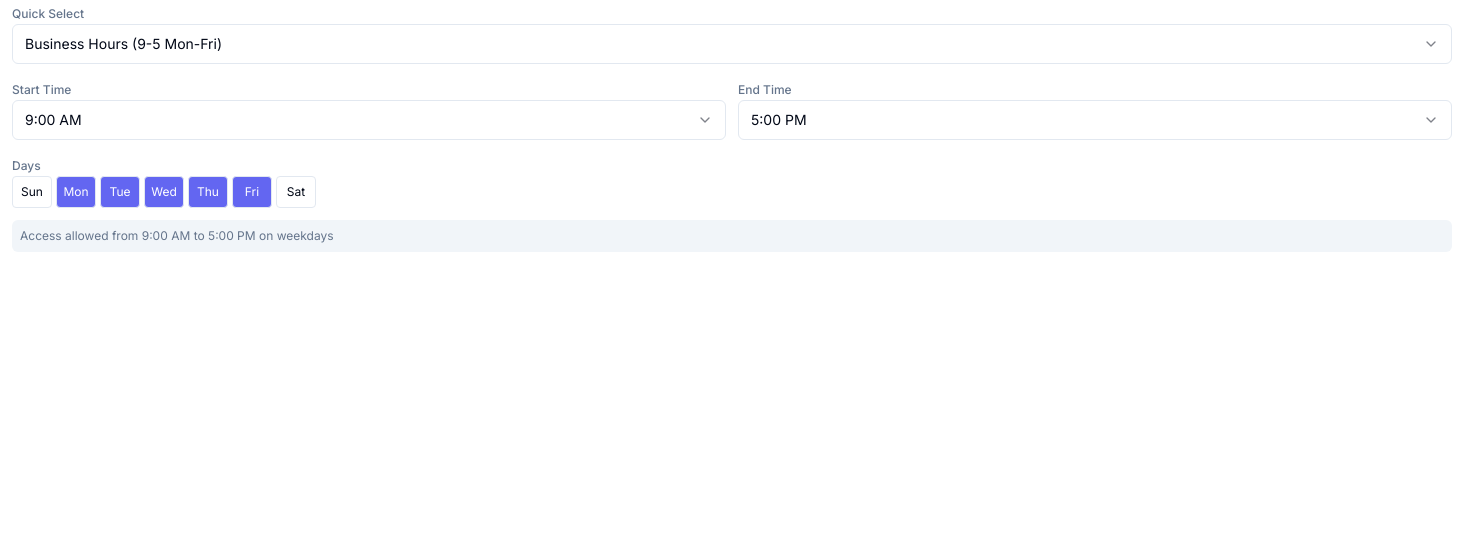
Test: TimePicker › start time selector › shows all 24 hour options
The image size is (1464, 549).
Click the dropdown labelled "9:00 AM" at (53, 120), box [12,100,726,140]
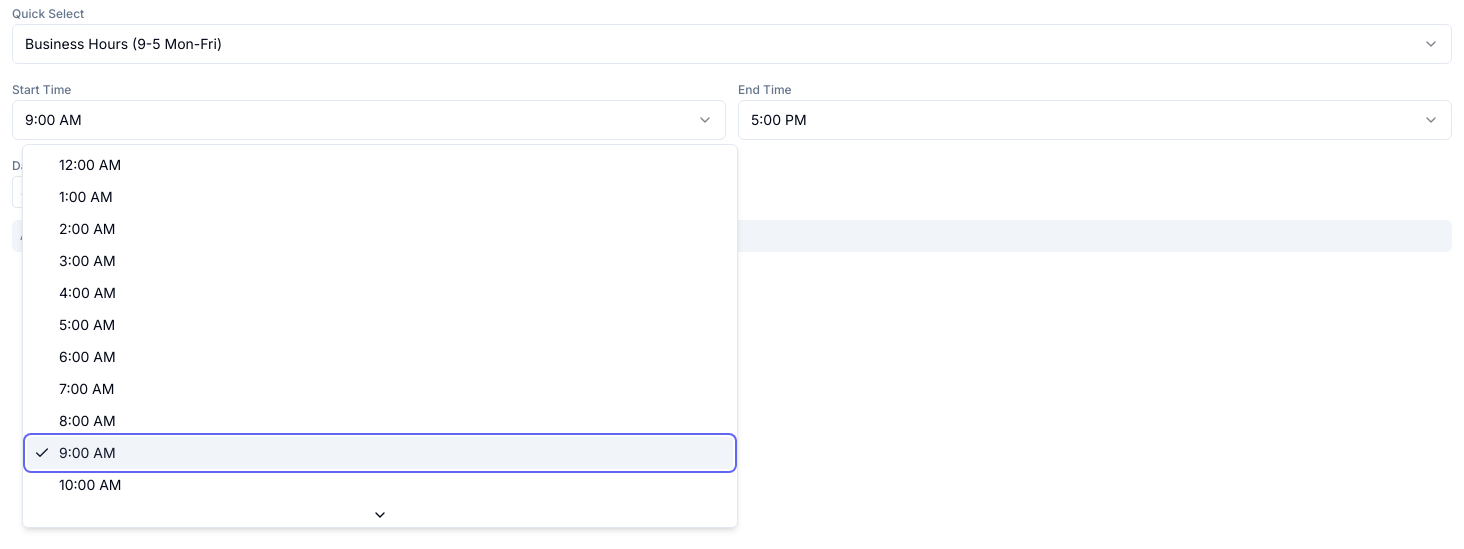
Expected: the text "12:00 AM" is shown, [59,155,121,175]
